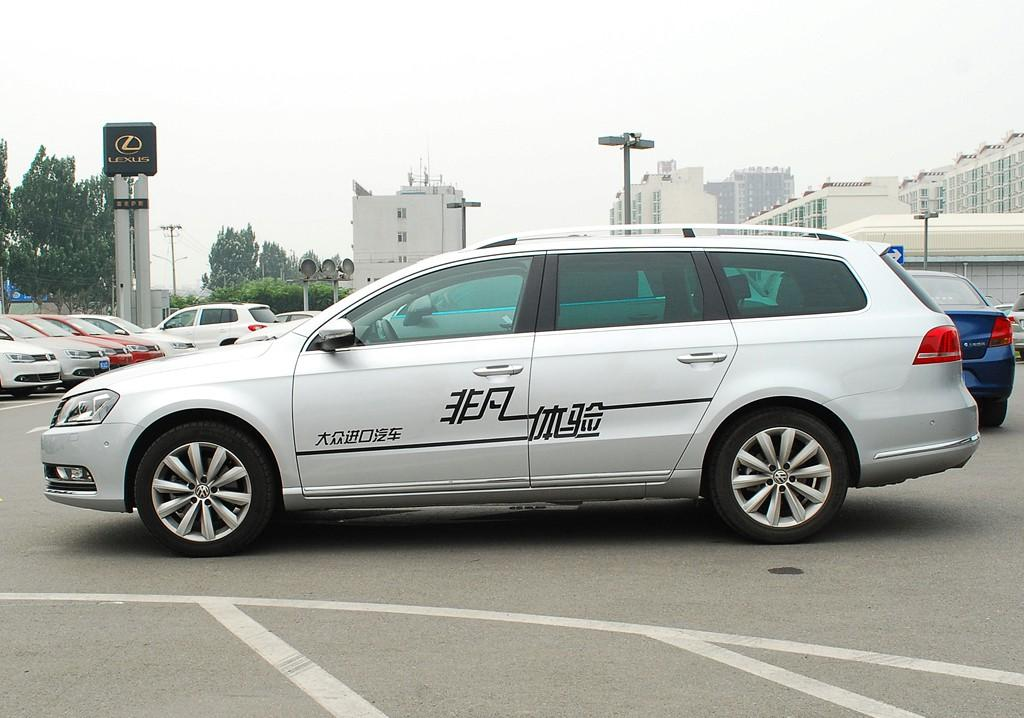Wagon: (42, 221, 982, 556)
